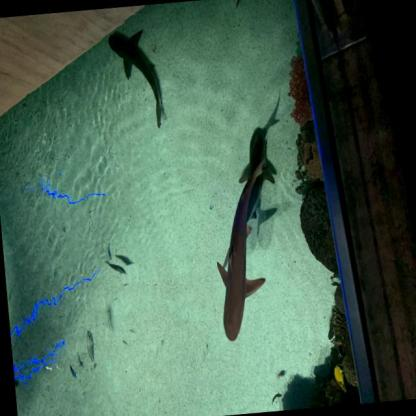fish: (85, 328, 98, 370), (333, 362, 347, 394), (105, 258, 126, 277), (271, 391, 283, 404), (69, 362, 77, 380), (106, 242, 113, 260)
shark: (202, 148, 286, 350), (220, 122, 284, 250), (105, 23, 170, 136)
